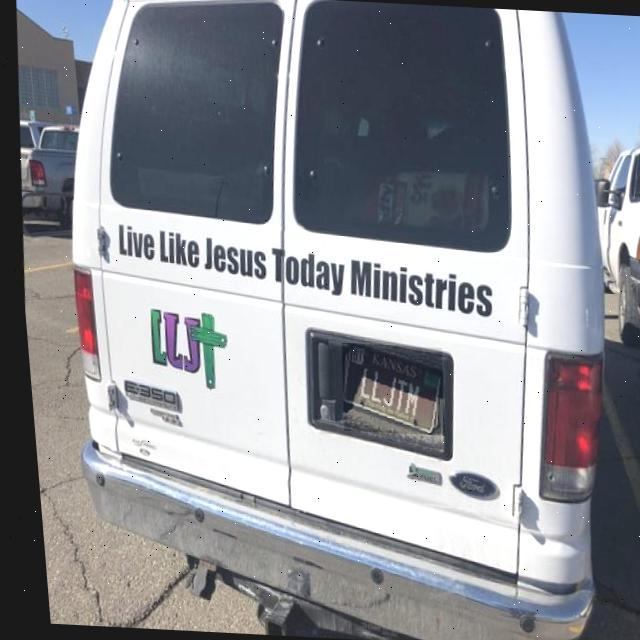LicensePlate: (337, 343, 436, 435)
